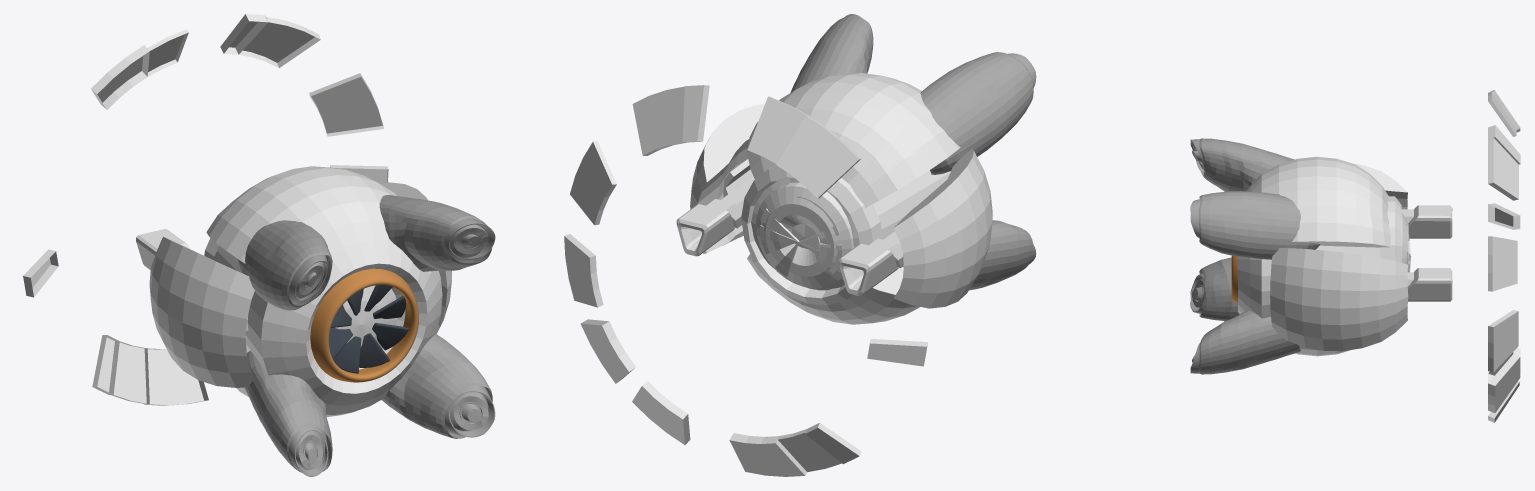
File: Scout-a.fbx
The picture shows the model from 3 angles, left to right: view 1: azimuth 30°, elevation 25°; view 2: azimuth 150°, elevation 25°; view 3: azimuth 270°, elevation 25°; orthographic projection. The views are drawn at different scales.
Parts seen in each view (by area): view 1: Sphere.006, Sphere.001, Sphere_RLExtr.001, Sphere.007, Cylinder_o1_0.001, Sphere.002, Mesh_5.001; view 2: Sphere_RLExtr.001, Sphere.001, Sphere.006, Sphere_RLExtr, Sphere.007, Sphere.002, Mesh_5.052, Mesh_5.001; view 3: Sphere.006, Sphere.002, Sphere.001, Sphere_RLExtr.001, Mesh_5.001, Mesh_5.052, Sphere_RLExtr, Sphere.007.
Boxes of the visible parts, x1,y1,x2,y2 form: Sphere.006: (238, 195, 495, 476); Sphere.001: (206, 166, 442, 417); Sphere_RLExtr.001: (23, 14, 388, 405); Sphere.007: (149, 236, 254, 387); Cylinder_o1_0.001: (310, 268, 418, 382); Sphere.002: (380, 182, 451, 333); Mesh_5.001: (136, 229, 248, 336); Sphere_RLExtr.001: (564, 85, 927, 476); Sphere.001: (747, 73, 960, 324); Sphere.006: (790, 14, 1036, 290); Sphere_RLExtr: (741, 165, 882, 305); Sphere.007: (893, 148, 992, 308); Sphere.002: (690, 104, 764, 253); Mesh_5.052: (676, 159, 754, 256); Mesh_5.001: (838, 231, 903, 295); Sphere.006: (1190, 138, 1319, 374); Sphere.002: (1270, 248, 1408, 351); Sphere.001: (1238, 156, 1390, 356); Sphere_RLExtr.001: (1488, 90, 1520, 422); Mesh_5.001: (1401, 205, 1452, 238); Mesh_5.052: (1407, 268, 1452, 301); Sphere_RLExtr: (1380, 196, 1410, 272); Sphere.007: (1353, 163, 1407, 209).
Size of the model in its own units: 477 by 331 by 331.
